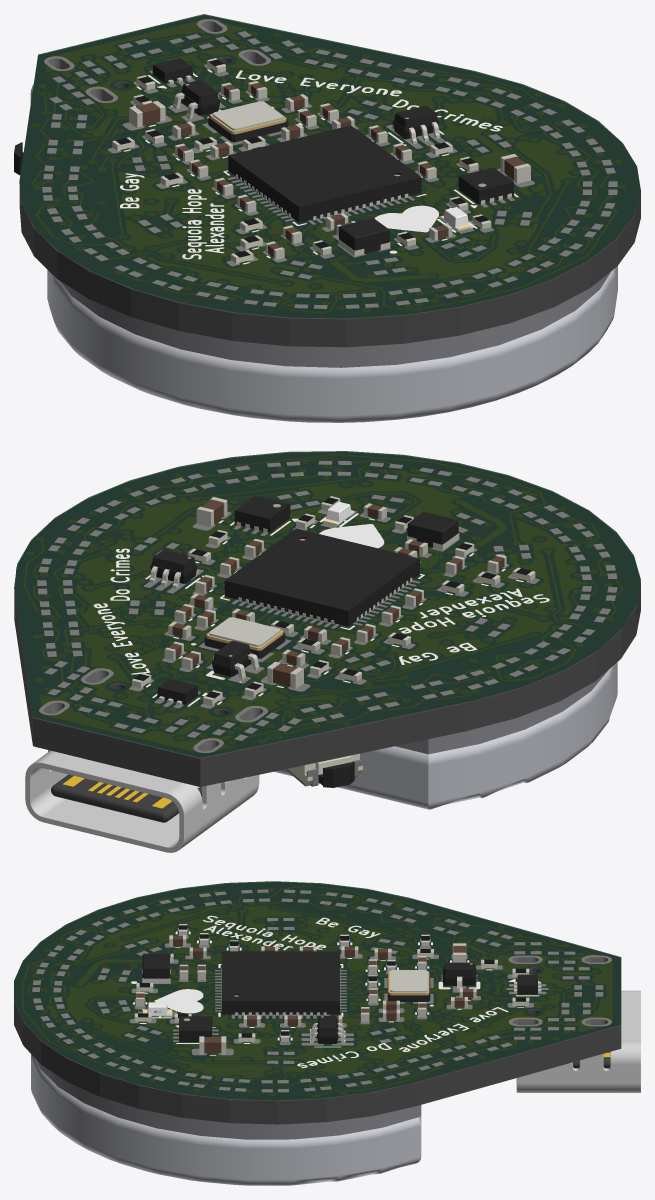
Rendered from board.glb.
The picture shows the model from 3 angles, top to bottom: view 1: azimuth 30°, elevation 25°; view 2: azimuth 150°, elevation 25°; view 3: azimuth 270°, elevation 25°; orthographic projection. The views are drawn at different scales.
Visible parts, largest first — view 1: earring_soldermask, earring_PCB, lpr302823, earring_copper, earring_pad, QFN-56-1EP_7x7mm_P0.4mm_EP3.2x3.2mm, vhb_4956, earring_silkscreen, Crystal_SMD_3225-4Pin_3.2x2.5mm, L_Murata_DFE201610P, VDFN-8-1EP_2x2mm_P0.5mm_EP0.9x1.7mm, C_0603_1608Metric (×2) (+3 smaller); view 2: earring_soldermask, earring_PCB, earring_copper, earring_pad, USB_C_Receptacle_HRO_TYPE-C-31-M-12, lpr302823, QFN-56-1EP_7x7mm_P0.4mm_EP3.2x3.2mm, earring_silkscreen, vhb_4956, Crystal_SMD_3225-4Pin_3.2x2.5mm, SW_SPST_B3U-3000P, VDFN-8-1EP_2x2mm_P0.5mm_EP0.9x1.7mm (+5 smaller); view 3: earring_soldermask, earring_PCB, earring_copper, lpr302823, earring_pad, QFN-56-1EP_7x7mm_P0.4mm_EP3.2x3.2mm, vhb_4956, USB_C_Receptacle_HRO_TYPE-C-31-M-12, earring_silkscreen, Crystal_SMD_3225-4Pin_3.2x2.5mm, L_Murata_DFE201610P, SOT-363_SC-70-6 (+4 smaller).
Part boxes in pixels (bbox=[...]): earring_soldermask: bbox=[19, 14, 640, 318]; earring_PCB: bbox=[19, 15, 640, 347]; lpr302823: bbox=[47, 266, 617, 422]; earring_copper: bbox=[32, 19, 624, 313]; earring_pad: bbox=[42, 19, 617, 309]; QFN-56-1EP_7x7mm_P0.4mm_EP3.2x3.2mm: bbox=[228, 125, 421, 222]; vhb_4956: bbox=[60, 271, 611, 367]; earring_silkscreen: bbox=[120, 69, 518, 264]; Crystal_SMD_3225-4Pin_3.2x2.5mm: bbox=[208, 101, 288, 142]; L_Murata_DFE201610P: bbox=[338, 218, 390, 256]; VDFN-8-1EP_2x2mm_P0.5mm_EP0.9x1.7mm: bbox=[458, 167, 513, 204]; C_0603_1608Metric (×2): bbox=[129, 101, 530, 183]; earring_soldermask: bbox=[14, 451, 640, 757]; earring_PCB: bbox=[14, 452, 640, 786]; earring_copper: bbox=[24, 454, 622, 753]; earring_pad: bbox=[37, 461, 617, 753]; USB_C_Receptacle_HRO_TYPE-C-31-M-12: bbox=[25, 750, 259, 852]; lpr302823: bbox=[274, 662, 617, 809]; QFN-56-1EP_7x7mm_P0.4mm_EP3.2x3.2mm: bbox=[224, 528, 419, 626]; earring_silkscreen: bbox=[93, 513, 549, 706]; vhb_4956: bbox=[395, 670, 608, 754]; Crystal_SMD_3225-4Pin_3.2x2.5mm: bbox=[204, 617, 285, 658]; SW_SPST_B3U-3000P: bbox=[287, 753, 362, 787]; VDFN-8-1EP_2x2mm_P0.5mm_EP0.9x1.7mm: bbox=[234, 495, 290, 532]; earring_soldermask: bbox=[14, 881, 621, 1100]; earring_PCB: bbox=[14, 882, 621, 1124]; earring_copper: bbox=[22, 886, 611, 1097]; lpr302823: bbox=[31, 1054, 421, 1185]; earring_pad: bbox=[32, 889, 611, 1092]; QFN-56-1EP_7x7mm_P0.4mm_EP3.2x3.2mm: bbox=[221, 951, 340, 1015]; vhb_4956: bbox=[36, 1059, 421, 1139]; USB_C_Receptacle_HRO_TYPE-C-31-M-12: bbox=[516, 990, 640, 1092]; earring_silkscreen: bbox=[131, 915, 539, 1068]; Crystal_SMD_3225-4Pin_3.2x2.5mm: bbox=[387, 970, 430, 1001]; L_Murata_DFE201610P: bbox=[142, 953, 169, 983]; SOT-363_SC-70-6: bbox=[310, 1015, 345, 1044].
Bounding box in the file's own units: 0.0305 × 0.00748 × 0.0368.
